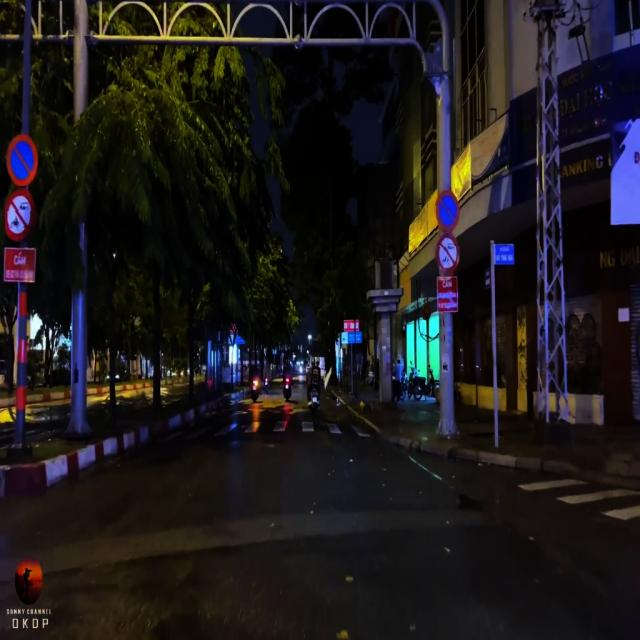cam_cac_loai_xe_3_banh: (435, 233, 460, 276)
cam_dung_xe_va_do_xe: (6, 132, 38, 186), (434, 189, 460, 231)
cam_xe_2_banh_va_xe_3_banh_co_dong_co: (5, 188, 36, 242)
